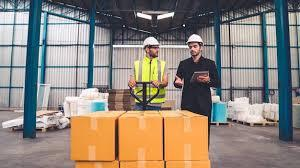Boxes: (118, 116, 164, 161), (164, 116, 210, 161), (71, 116, 116, 161)
